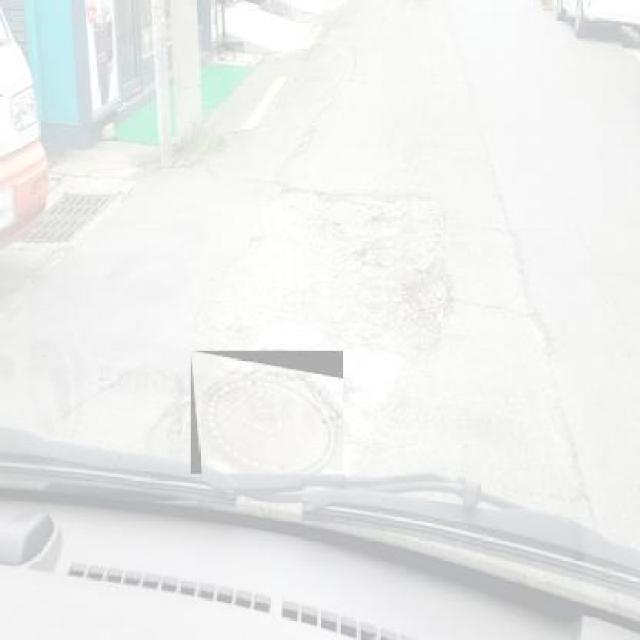Manhole: (190, 351, 344, 474), (18, 217, 98, 248), (38, 186, 126, 214)
Pothole: (266, 183, 452, 350), (396, 258, 458, 318)
